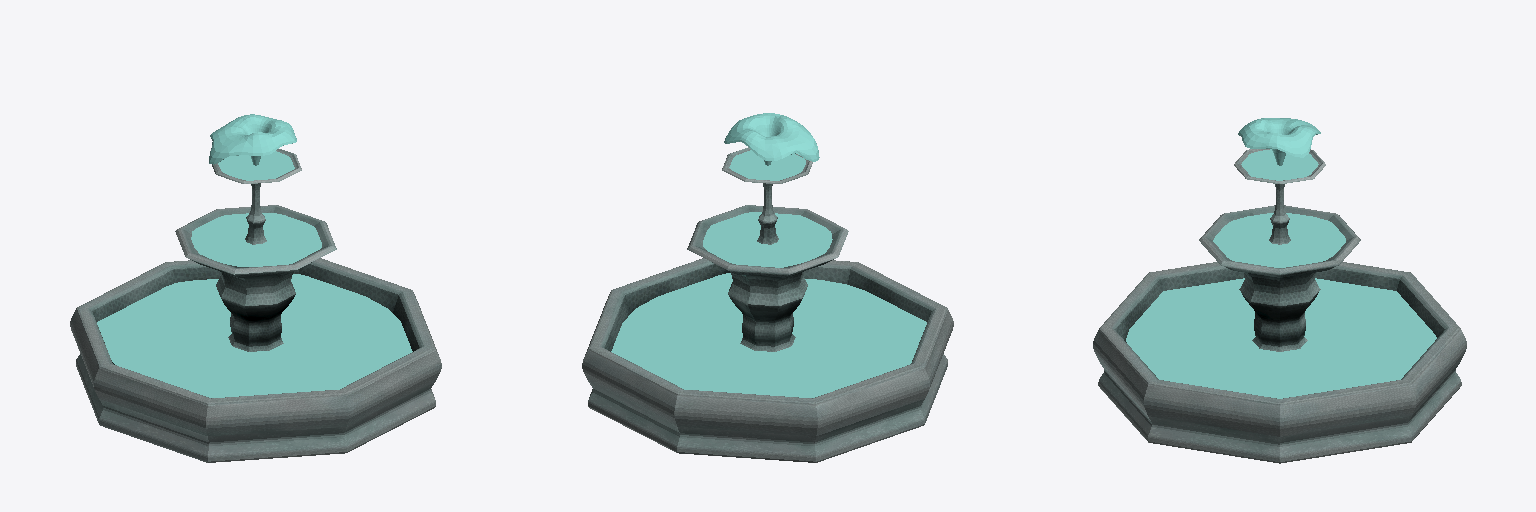
The picture shows the model from 3 angles: view 1: azimuth 30°, elevation 25°; view 2: azimuth 150°, elevation 25°; view 3: azimuth 270°, elevation 25°; orthographic projection.
Visible parts, largest first — view 1: Cube; view 2: Cube; view 3: Cube.
Boxes of the visible parts, x1=… form: Cube: x1=70, y1=114, x2=441, y2=462; Cube: x1=582, y1=113, x2=953, y2=462; Cube: x1=1093, y1=118, x2=1466, y2=463.
Size of the model in its own units: 4.32 by 3.36 by 4.32.
2 materials, 2 textured.